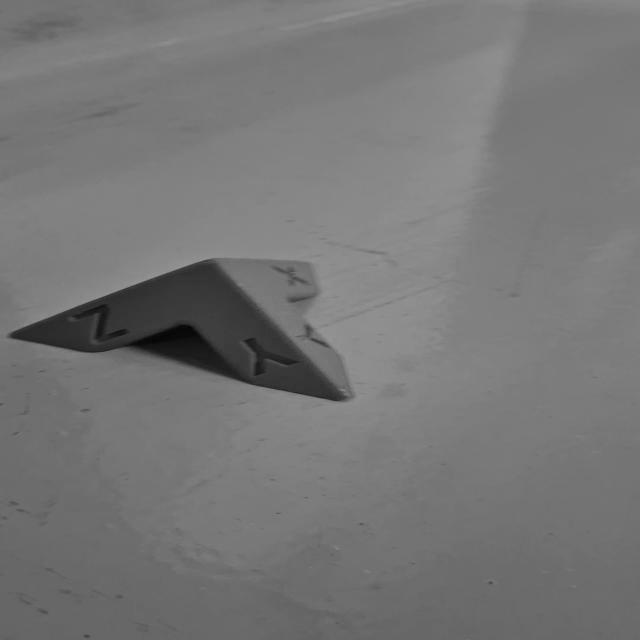eje: (2, 253, 364, 408)
